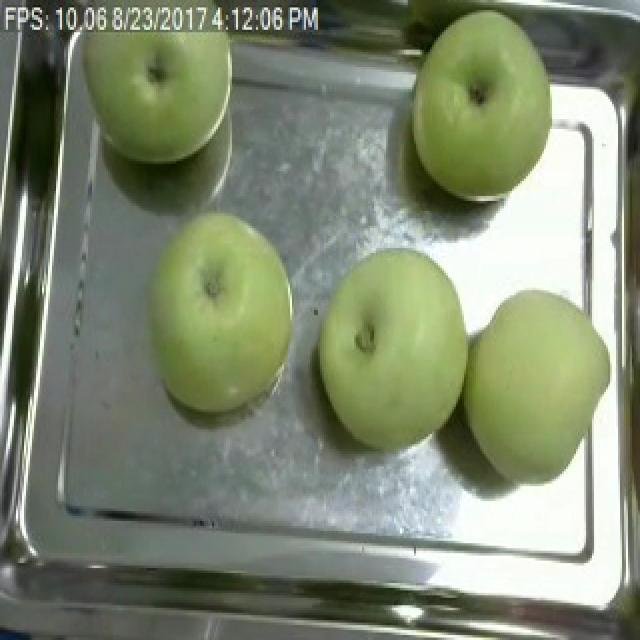50-_ripeness: (456, 264, 616, 493), (136, 206, 295, 427), (331, 245, 465, 465), (407, 12, 556, 202), (78, 0, 240, 166)
